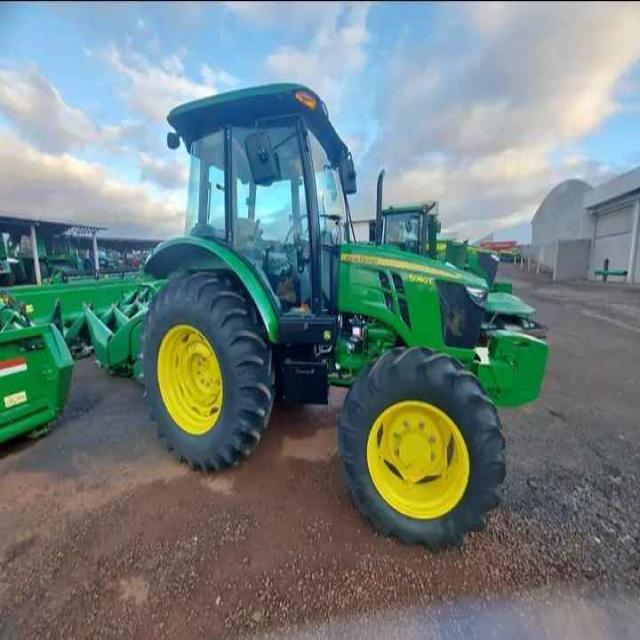Tratores - v5 YOLO V8L 2024-11-13: (140, 98, 545, 551), (358, 157, 508, 285)
